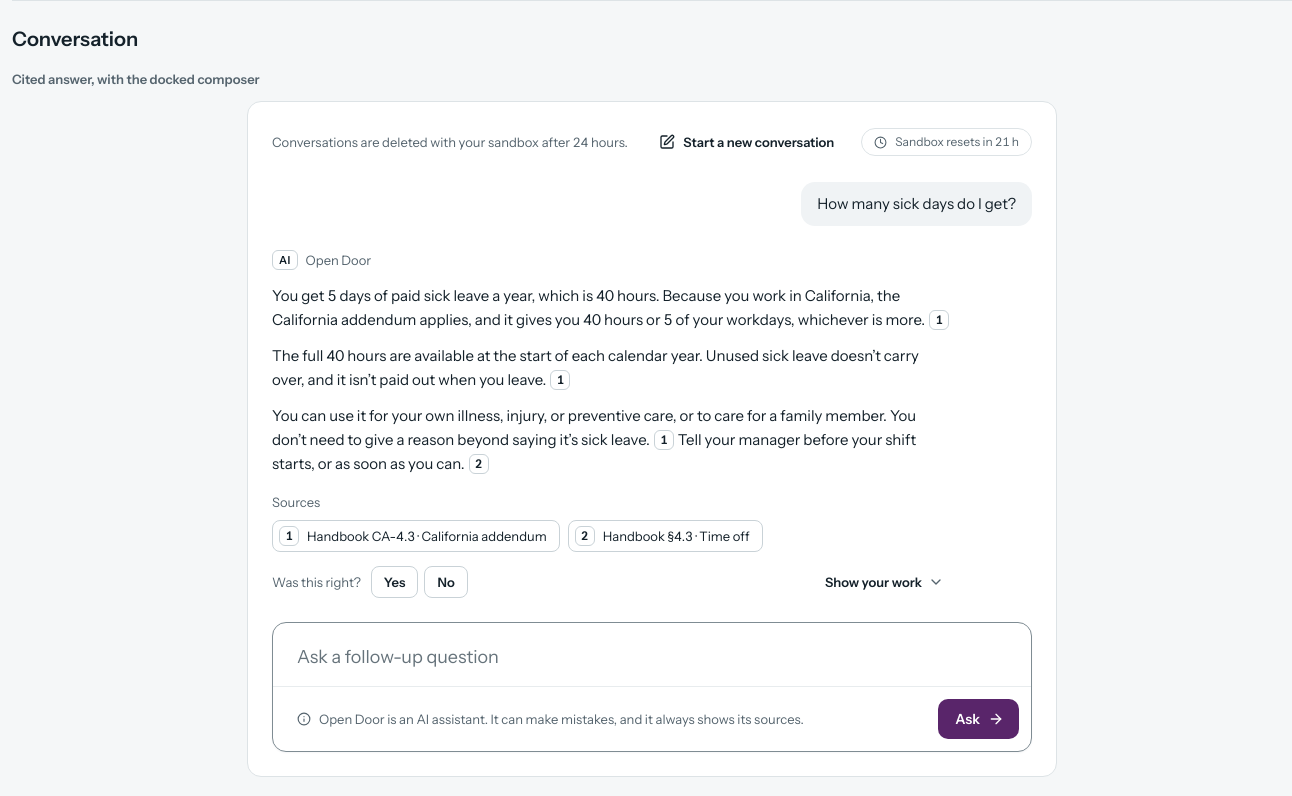
Scenario: ConversationSections: the interactive pieces › toggles "Show your work"
What coordinates should you click on to do the following:
click the button "Show your work"
I would click on:
 (884, 582)
Its box is 815,566 -> 952,598.
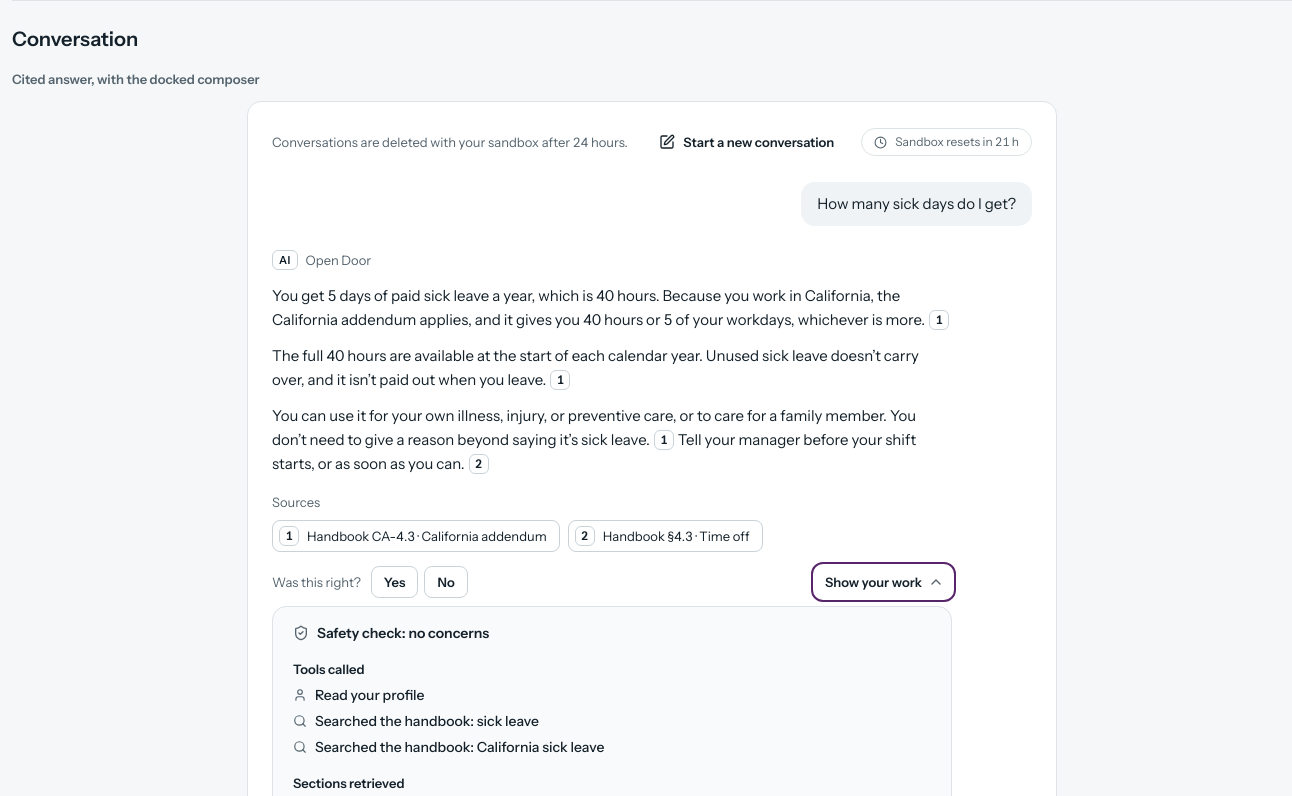
Check: the button "Show your work" is expanded, box 815,566 -> 952,598
